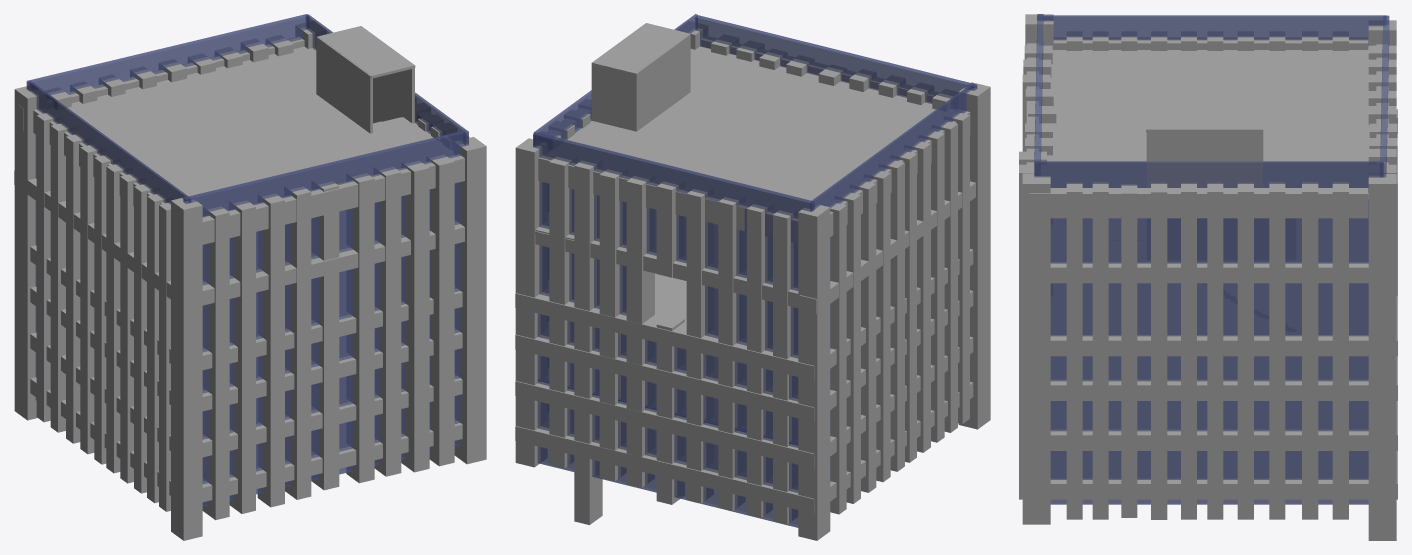
Rendered from Spawn.fbx.
3 views of the same model, side by side, from view 1: azimuth 30°, elevation 25°; view 2: azimuth 150°, elevation 25°; view 3: azimuth 270°, elevation 25° (orthographic). The views are drawn at different scales.
Parts seen in each view (by area): view 1: pCube679; view 2: pCube679; view 3: pCube679.
Part boxes in pixels (box(x1,y1,x2,y2)): pCube679: box(14, 14, 486, 540); pCube679: box(515, 14, 990, 540); pCube679: box(1019, 14, 1397, 540).
Size of the model in its own units: 1.13 by 1.41 by 1.12.
